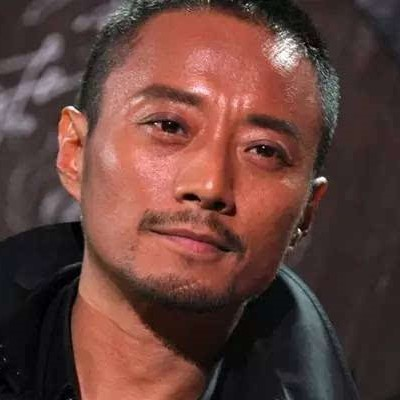unmask: (94, 48, 316, 307)
